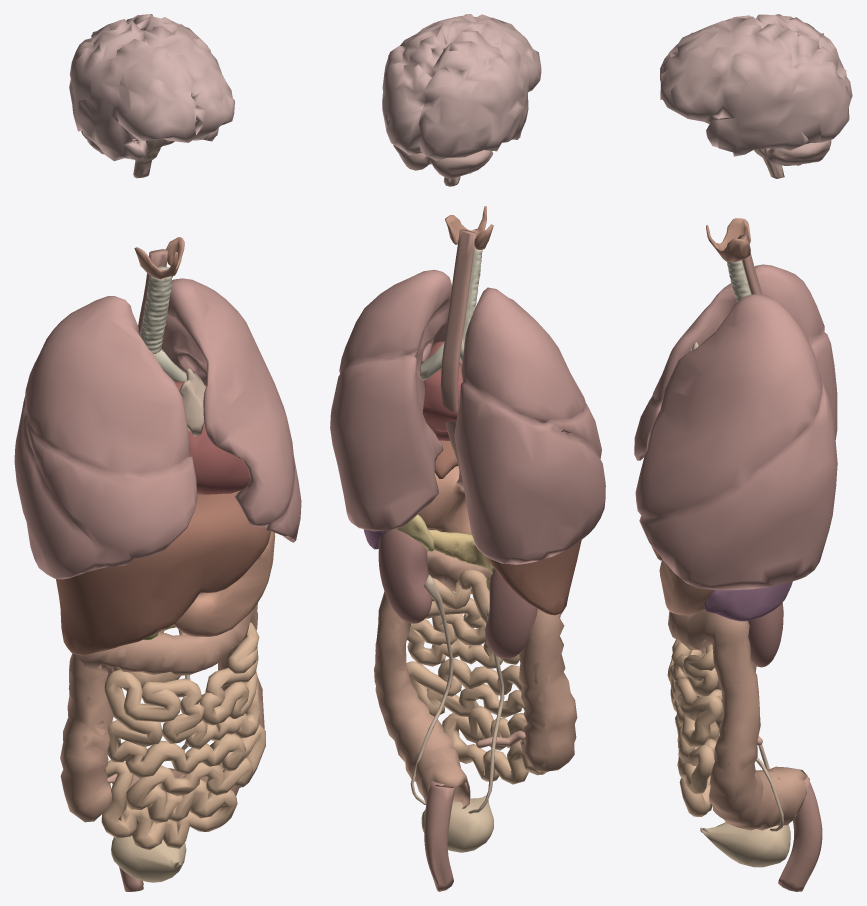
Rendered from kaizen_anatomy_organs.glb.
3 views of the same model, side by side, from view 1: azimuth 30°, elevation 25°; view 2: azimuth 150°, elevation 25°; view 3: azimuth 270°, elevation 25° (orthographic). The views are drawn at different scales.
Parts seen in each view (by area): view 1: organ.lung.r, organ.small_intestine, organ.brain, organ.lung.l, organ.liver, organ.large_intestine, organ.stomach, organ.heart, organ.urinary_bladder, organ.trachea, organ.thymus, organ.thyroid (+1 smaller); view 2: organ.lung.r, organ.lung.l, organ.brain, organ.large_intestine, organ.small_intestine, organ.liver, organ.kidney.l, organ.oesophagus, organ.kidney.r, organ.rectum, organ.stomach, organ.urinary_bladder (+9 smaller); view 3: organ.lung.l, organ.brain, organ.large_intestine, organ.lung.r, organ.small_intestine, organ.urinary_bladder, organ.rectum, organ.spleen, organ.kidney.l, organ.stomach, organ.thyroid, organ.cerebellum (+2 smaller).
Boxes of the visible parts, x1,y1,x2,y2 form: organ.lung.r: [14, 296, 197, 579]; organ.small_intestine: [101, 622, 265, 849]; organ.brain: [69, 14, 234, 161]; organ.lung.l: [161, 278, 301, 542]; organ.liver: [56, 490, 270, 655]; organ.large_intestine: [60, 603, 264, 822]; organ.stomach: [174, 532, 275, 636]; organ.heart: [175, 381, 249, 494]; organ.urinary_bladder: [111, 835, 186, 882]; organ.trachea: [139, 266, 186, 381]; organ.thymus: [179, 368, 205, 436]; organ.thyroid: [134, 237, 184, 279]; organ.lung.r: [454, 287, 605, 564]; organ.lung.l: [330, 269, 451, 531]; organ.brain: [382, 14, 541, 160]; organ.large_intestine: [374, 550, 577, 808]; organ.small_intestine: [406, 578, 545, 784]; organ.liver: [434, 440, 581, 615]; organ.kidney.l: [378, 530, 431, 623]; organ.oesophagus: [440, 229, 476, 490]; organ.kidney.r: [485, 569, 537, 658]; organ.rectum: [424, 780, 455, 891]; organ.stomach: [418, 466, 471, 534]; organ.urinary_bladder: [421, 794, 493, 852]; organ.lung.l: [635, 294, 837, 590]; organ.brain: [660, 14, 852, 156]; organ.large_intestine: [668, 610, 809, 830]; organ.lung.r: [634, 264, 837, 460]; organ.small_intestine: [667, 639, 723, 816]; organ.urinary_bladder: [700, 822, 790, 867]; organ.rectum: [778, 774, 822, 891]; organ.spleen: [704, 581, 792, 621]; organ.kidney.l: [748, 603, 783, 667]; organ.stomach: [659, 559, 714, 615]; organ.thyroid: [706, 218, 750, 262]; organ.cerebellum: [760, 140, 831, 165].
Size of the model in its own units: 0.2831 by 0.9477 by 0.2151.
